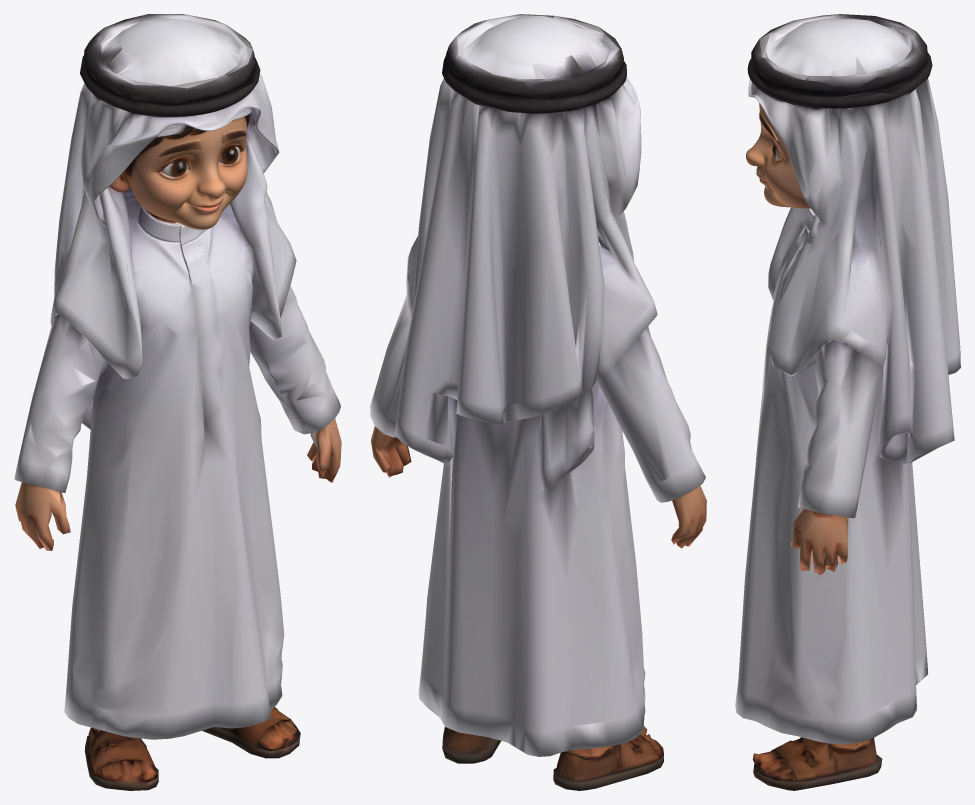
File: salman.glb
3 renders of one model, left to right at view 1: azimuth 30°, elevation 25°; view 2: azimuth 150°, elevation 25°; view 3: azimuth 270°, elevation 25°, orthographic. The views are drawn at different scales.
Visible parts, largest first — view 1: node_0; view 2: node_0; view 3: node_0.
Boxes of the visible parts, x1,y1,x2,y2 form: node_0: [14, 14, 341, 790]; node_0: [370, 14, 706, 790]; node_0: [735, 14, 960, 790].
Bounding box in the file's own units: 0.5388 × 1.15 × 0.3269.
Materials: 6 (1 with a texture image).
